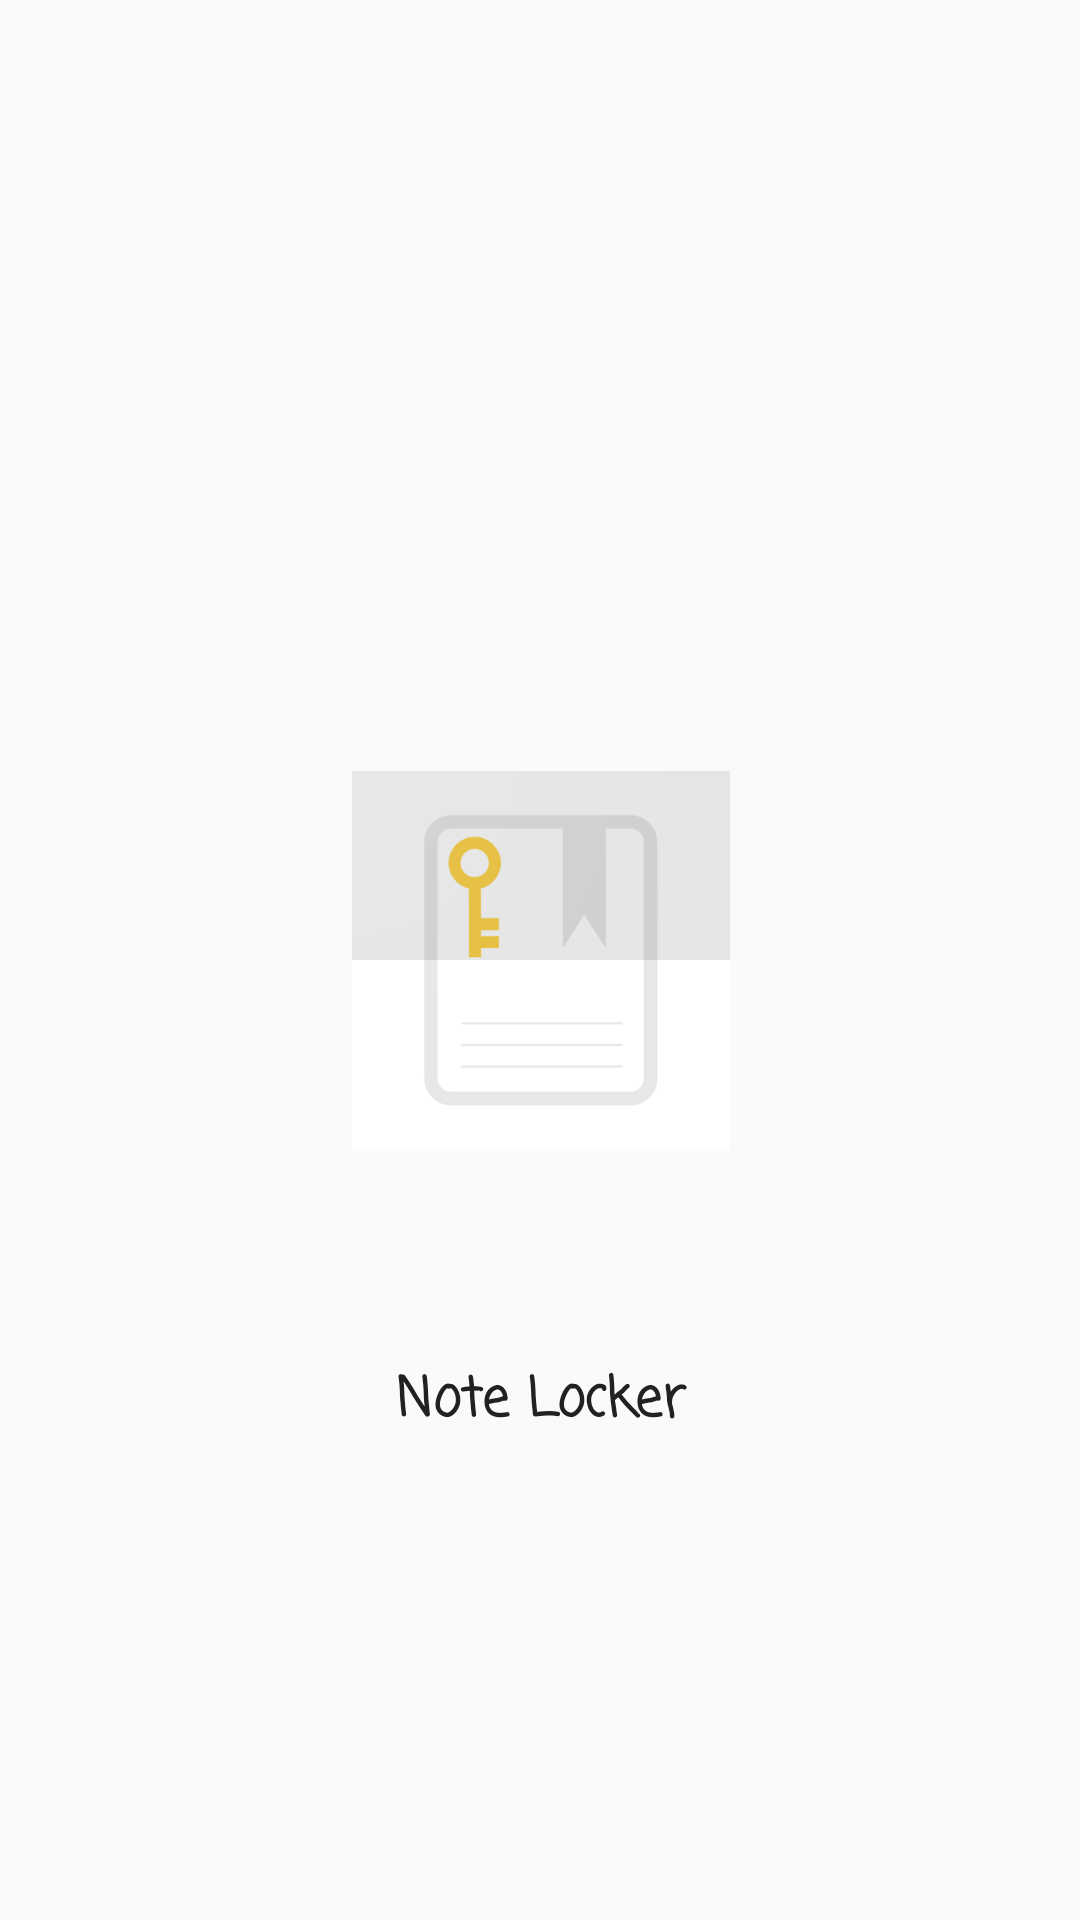

Icon click points for this 1080w x 1920h phone screenshot, format point (x, y):
notelockericon: point (541, 887)
